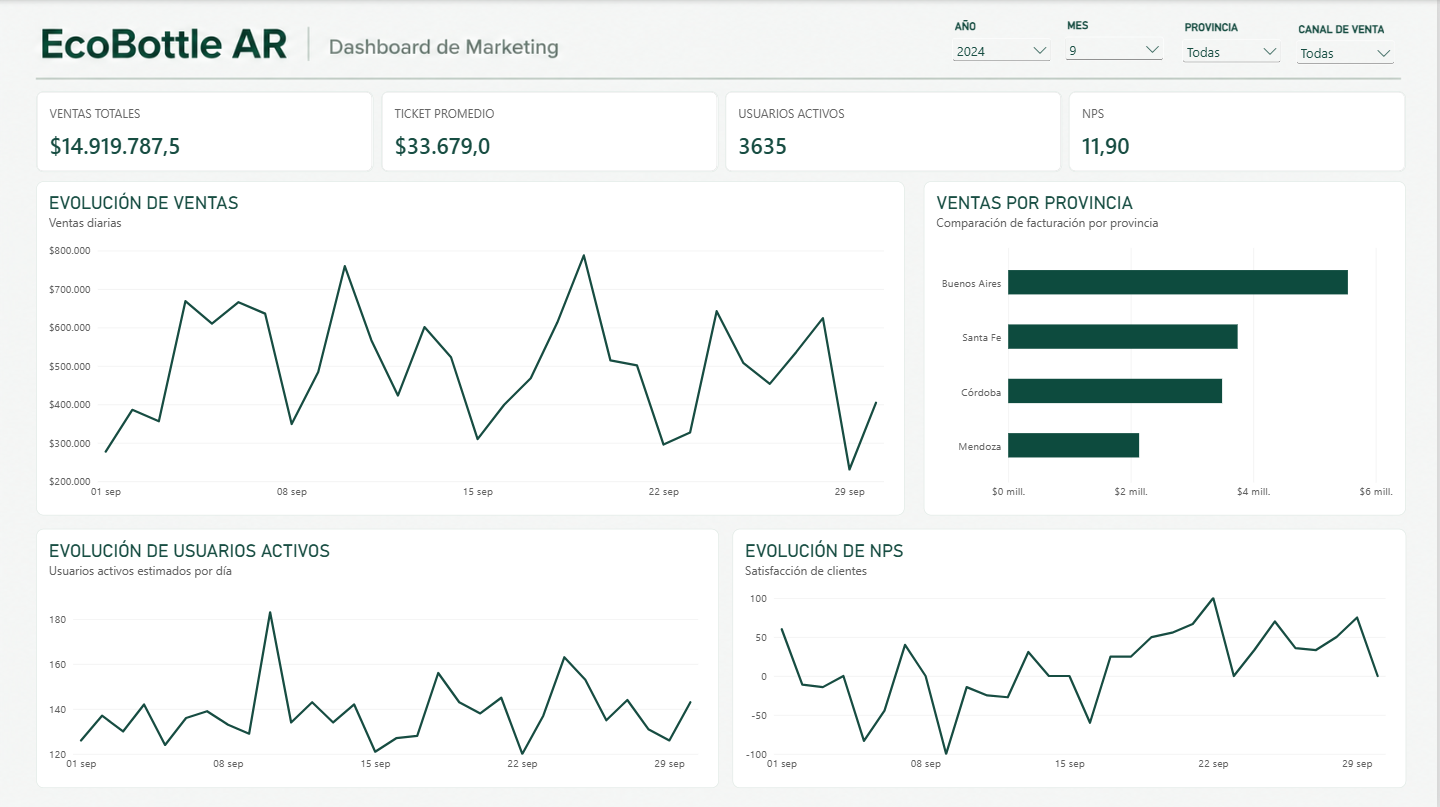

The page's visual inventory and layout, read from the dashboard file:
{"tool":"powerbi","page":{"name":"Dashboard","canvas":[1920,1080],"ordinal":0},"visuals":[{"type":"slicer","fields":{"Values":["dim_date.year"]},"box":[1267.2,26.9,141.4,62.9],"z":0},{"type":"cardVisual","title":"Ventas totales","fields":{"Data":["Sum(mart_sales.total_sales)"]},"box":[48.5,121.2,450,108],"z":1000},{"type":"slicer","fields":{"Values":["dim_date.month"]},"box":[1418,25.6,141.4,67.1],"z":2000},{"type":"slicer","fields":{"Values":["dim_channel_filter.channel_code"]},"box":[1726.4,29.6,141.4,62.9],"z":3000},{"type":"slicer","fields":{"Values":["dim_province_filter.province_name"]},"box":[1574.2,28.3,141.4,62.9],"z":4000},{"type":"cardVisual","title":"Ventas totales","fields":{"Data":["mart_sales.Ticket promedio"]},"box":[510,121.3,450,108],"z":6000},{"type":"cardVisual","title":"Ventas totales","fields":{"Data":["mart_web_activity.Usuarios activos"]},"box":[968,121.3,450,108],"z":7000},{"type":"cardVisual","title":"Ventas totales","fields":{"Data":["mart_nps.NPS"]},"box":[1427.4,121.2,450,108],"z":8000},{"type":"lineChart","title":"EVOLUCIÓN DE VENTAS","fields":{"Category":["dim_date.full_date"],"Y":["Sum(mart_sales.total_sales)"]},"box":[48,242,1160,446],"z":9000},{"type":"lineChart","title":"EVOLUCIÓN DE USUARIOS ACTIVOS","fields":{"Category":["dim_date.full_date"],"Y":["mart_web_activity.Usuarios activos"]},"box":[48,706,912,346],"z":10000},{"type":"lineChart","title":"EVOLUCIÓN DE NPS","fields":{"Category":["dim_date.full_date"],"Y":["mart_nps.NPS"]},"box":[978,706,900,346],"z":11000},{"type":"barChart","title":"VENTAS POR PROVINCIA","fields":{"Category":["dim_province_filter.province_name"],"Y":["Sum(mart_sales.total_sales)"]},"box":[1234,242,644,446],"z":12000}]}

Visuals, with their boxes in screenshot pixels (x1, y1, x2, y2), scaled from the page's 1920x1080 canvas onto the 1440x807 screenshot:
slicer - dim_date.year: {"x1": 950, "y1": 20, "x2": 1056, "y2": 67}
"Ventas totales" cardVisual: {"x1": 36, "y1": 91, "x2": 374, "y2": 171}
slicer - dim_date.month: {"x1": 1064, "y1": 19, "x2": 1170, "y2": 69}
slicer - dim_channel_filter.channel_code: {"x1": 1295, "y1": 22, "x2": 1401, "y2": 69}
slicer - dim_province_filter.province_name: {"x1": 1181, "y1": 21, "x2": 1287, "y2": 68}
"Ventas totales" cardVisual: {"x1": 382, "y1": 91, "x2": 720, "y2": 171}
"Ventas totales" cardVisual: {"x1": 726, "y1": 91, "x2": 1064, "y2": 171}
"Ventas totales" cardVisual: {"x1": 1071, "y1": 91, "x2": 1408, "y2": 171}
"EVOLUCIÓN DE VENTAS" lineChart: {"x1": 36, "y1": 181, "x2": 906, "y2": 514}
"EVOLUCIÓN DE USUARIOS ACTIVOS" lineChart: {"x1": 36, "y1": 528, "x2": 720, "y2": 786}
"EVOLUCIÓN DE NPS" lineChart: {"x1": 734, "y1": 528, "x2": 1408, "y2": 786}
"VENTAS POR PROVINCIA" barChart: {"x1": 926, "y1": 181, "x2": 1408, "y2": 514}
